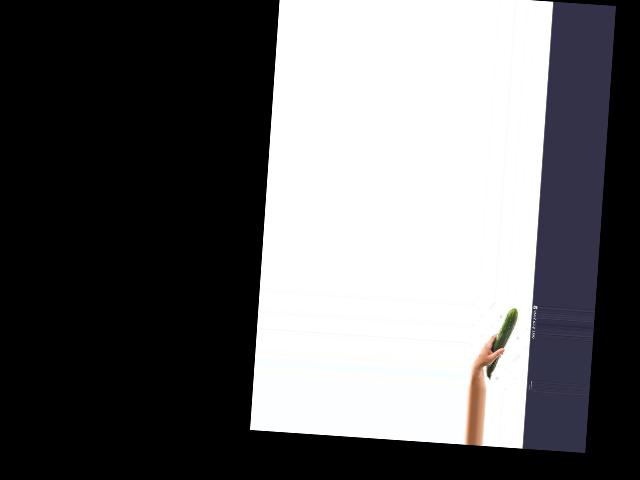cucumber: (485, 306, 518, 381)
